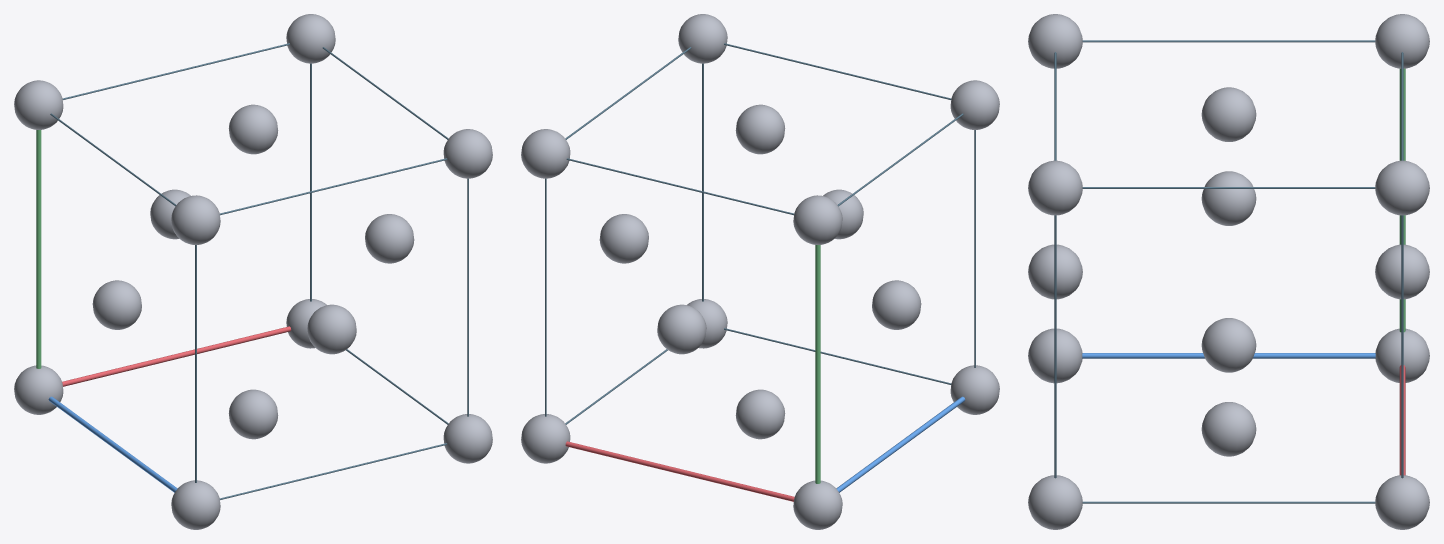
File: nguyen-to-al.glb
The picture shows the model from 3 angles, left to right: view 1: azimuth 30°, elevation 25°; view 2: azimuth 150°, elevation 25°; view 3: azimuth 270°, elevation 25°; orthographic projection. The views are drawn at different scales.
Parts seen in each view (by area): view 1: Al · Al · 1 (×14), Ô mạng và các trục a, b, c; view 2: Al · Al · 1 (×14), Ô mạng và các trục a, b, c; view 3: Al · Al · 1 (×14), Ô mạng và các trục a, b, c.
Boxes of the visible parts, x1=… form: Al · Al · 1 (×14): x1=14, y1=14, x2=492, y2=529; Ô mạng và các trục a, b, c: x1=36, y1=43, x2=468, y2=499; Al · Al · 1 (×14): x1=521, y1=14, x2=999, y2=529; Ô mạng và các trục a, b, c: x1=545, y1=43, x2=975, y2=501; Al · Al · 1 (×14): x1=1028, y1=14, x2=1429, y2=529; Ô mạng và các trục a, b, c: x1=1054, y1=40, x2=1405, y2=503.
Bounding box in the file's own units: 4.69 × 4.69 × 4.69.
